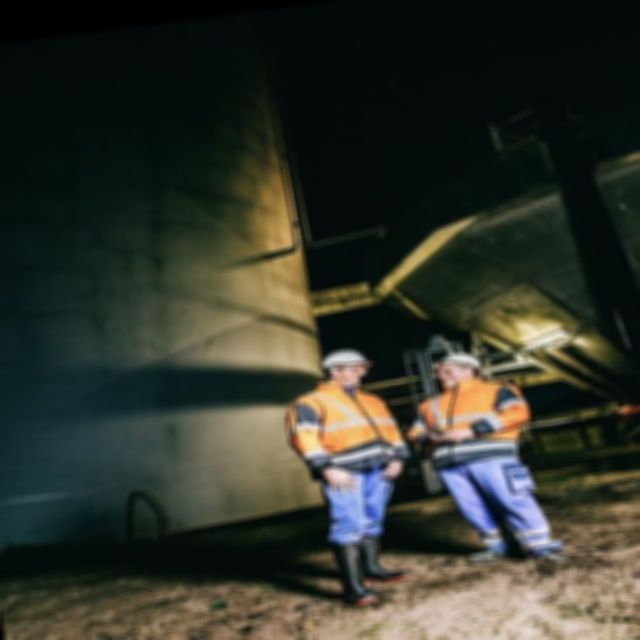Con_Casco: (316, 347, 373, 386), (427, 350, 483, 385)
Con_Chaleco: (287, 382, 411, 473), (414, 379, 530, 465)
